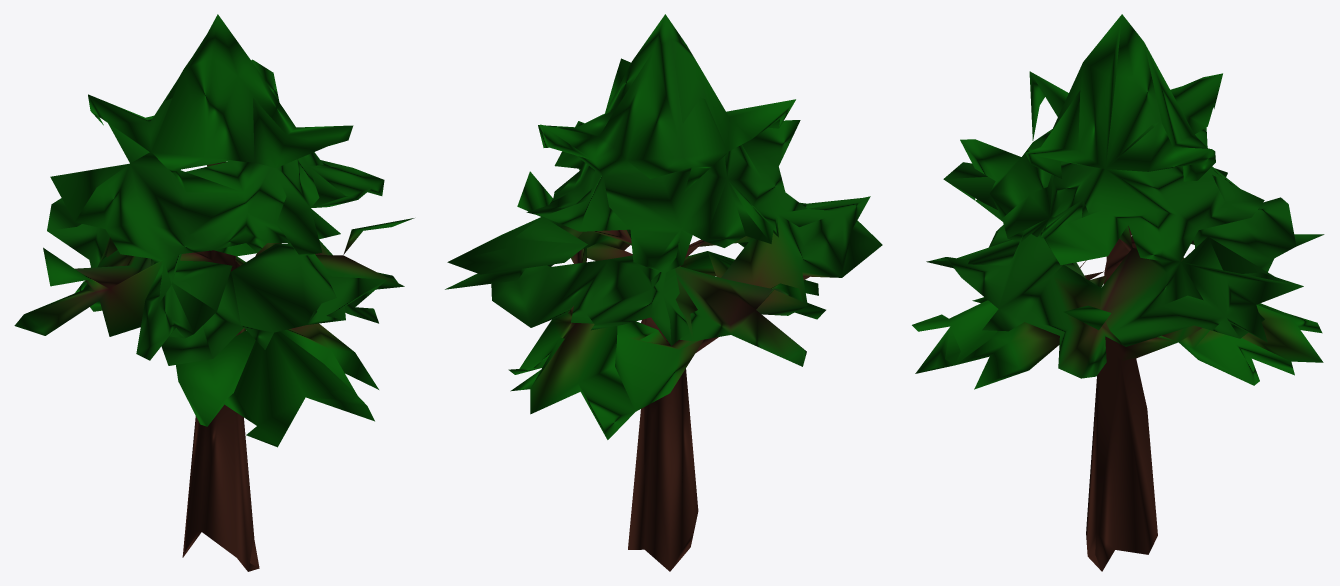
Rendered from gen3d-dead-pine-tree-lod1.glb.
3 renders of one model, left to right at view 1: azimuth 30°, elevation 25°; view 2: azimuth 150°, elevation 25°; view 3: azimuth 270°, elevation 25°, orthographic. The views are drawn at different scales.
Visible parts, largest first — view 1: part_0; view 2: part_0; view 3: part_0.
Part boxes in pixels (x1,y1,x2,y2): part_0: (14,14,414,571); part_0: (445,14,882,571); part_0: (912,14,1324,571).
Bounding box in the file's own units: 0.6388 × 0.9981 × 0.6901.
